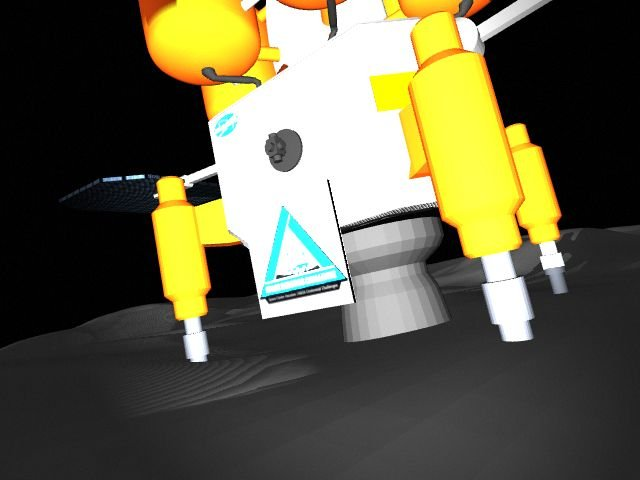basemarker: (260, 206, 348, 304)
